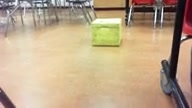cube: (91, 18, 121, 46)
